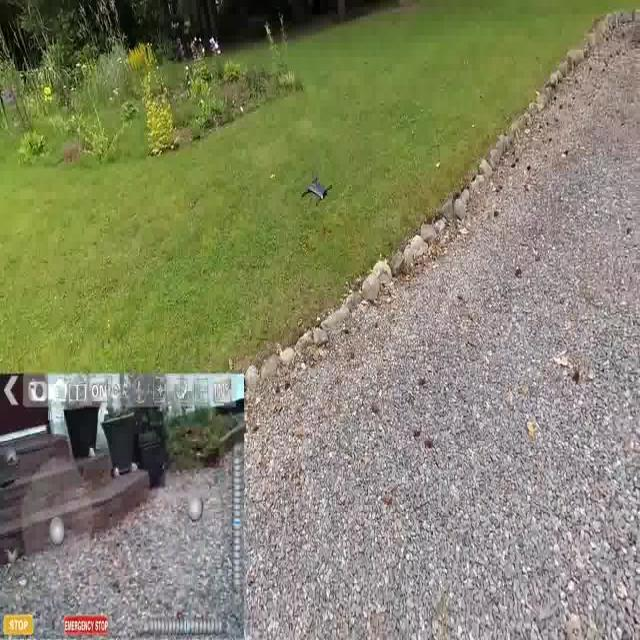drone: (297, 174, 337, 212)
